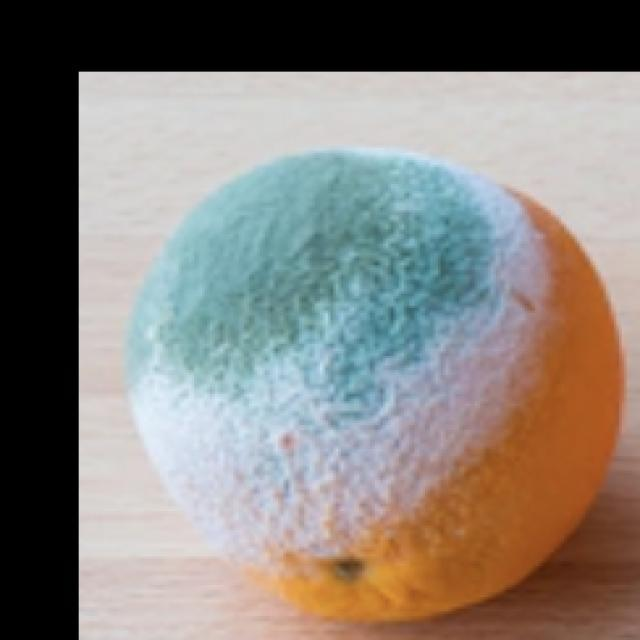sangat-busuk: (126, 150, 622, 620)
